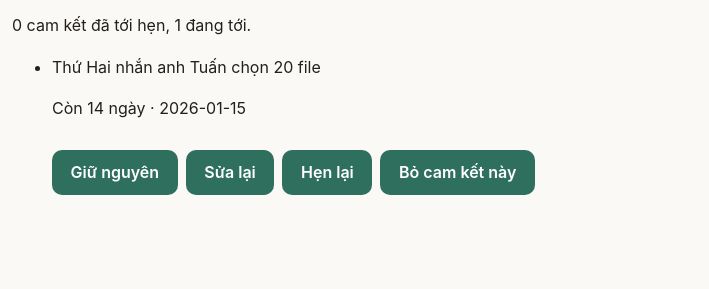
changing the commitment › opens with the existing words, so a small edit is a small edit
What coordinates should you click on to do the following:
click the button with test id "edit-ci-1"
I would click on:
 (230, 172)
Its box is [186,150,274,195].
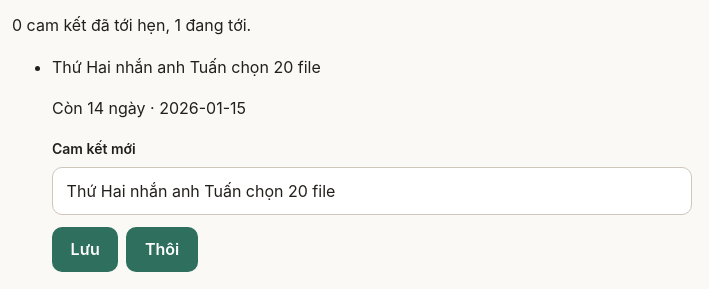
Now the field labelled "Cam kết mới" holds "Thứ Hai nhắn anh Tuấn chọn 20 file", box [52,167,692,215]
